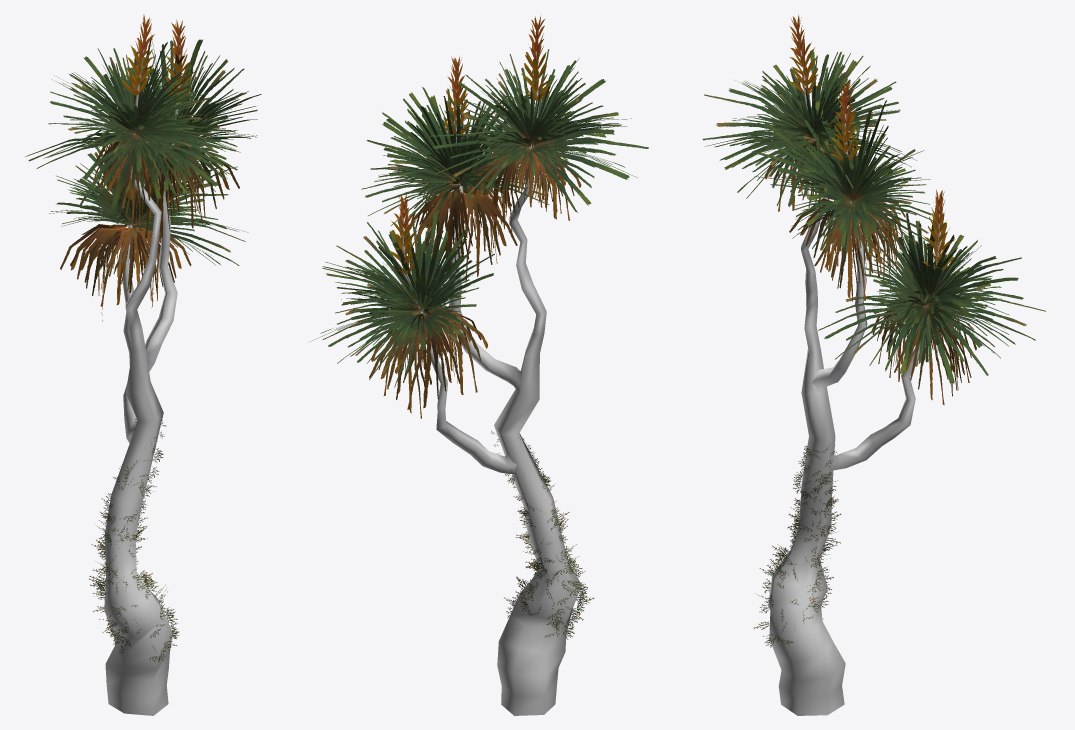
The model's file is Tree_09_2_L2.fbx.
The picture shows the model from 3 angles, left to right: view 1: azimuth 30°, elevation 25°; view 2: azimuth 150°, elevation 25°; view 3: azimuth 270°, elevation 25°; orthographic projection.
Visible parts, largest first — view 1: polySurface70; view 2: polySurface70; view 3: polySurface70.
Part boxes in pixels (left/top/right/bottom): polySurface70: left=25, top=14, right=261, bottom=715; polySurface70: left=311, top=15, right=648, bottom=715; polySurface70: left=702, top=14, right=1045, bottom=715.
Bounding box in the file's own units: 499 × 1235 × 603.
